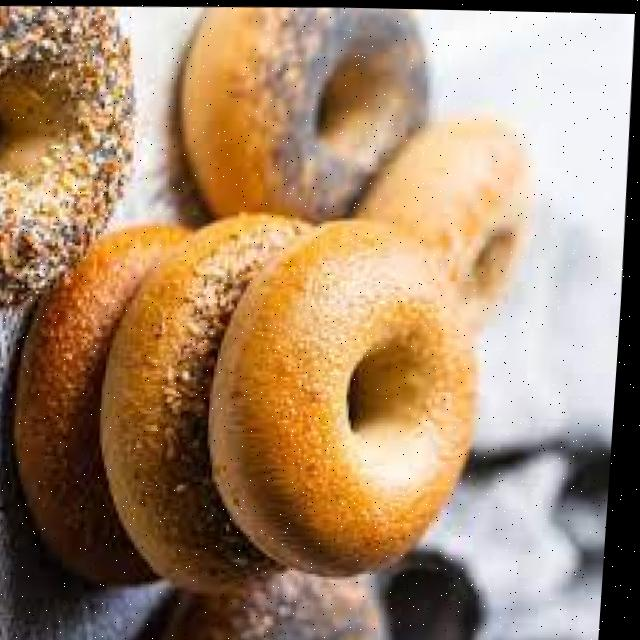Bagel: (213, 217, 477, 573), (105, 217, 311, 591), (17, 223, 190, 583), (181, 6, 426, 214), (0, 6, 134, 307), (357, 117, 530, 299)
